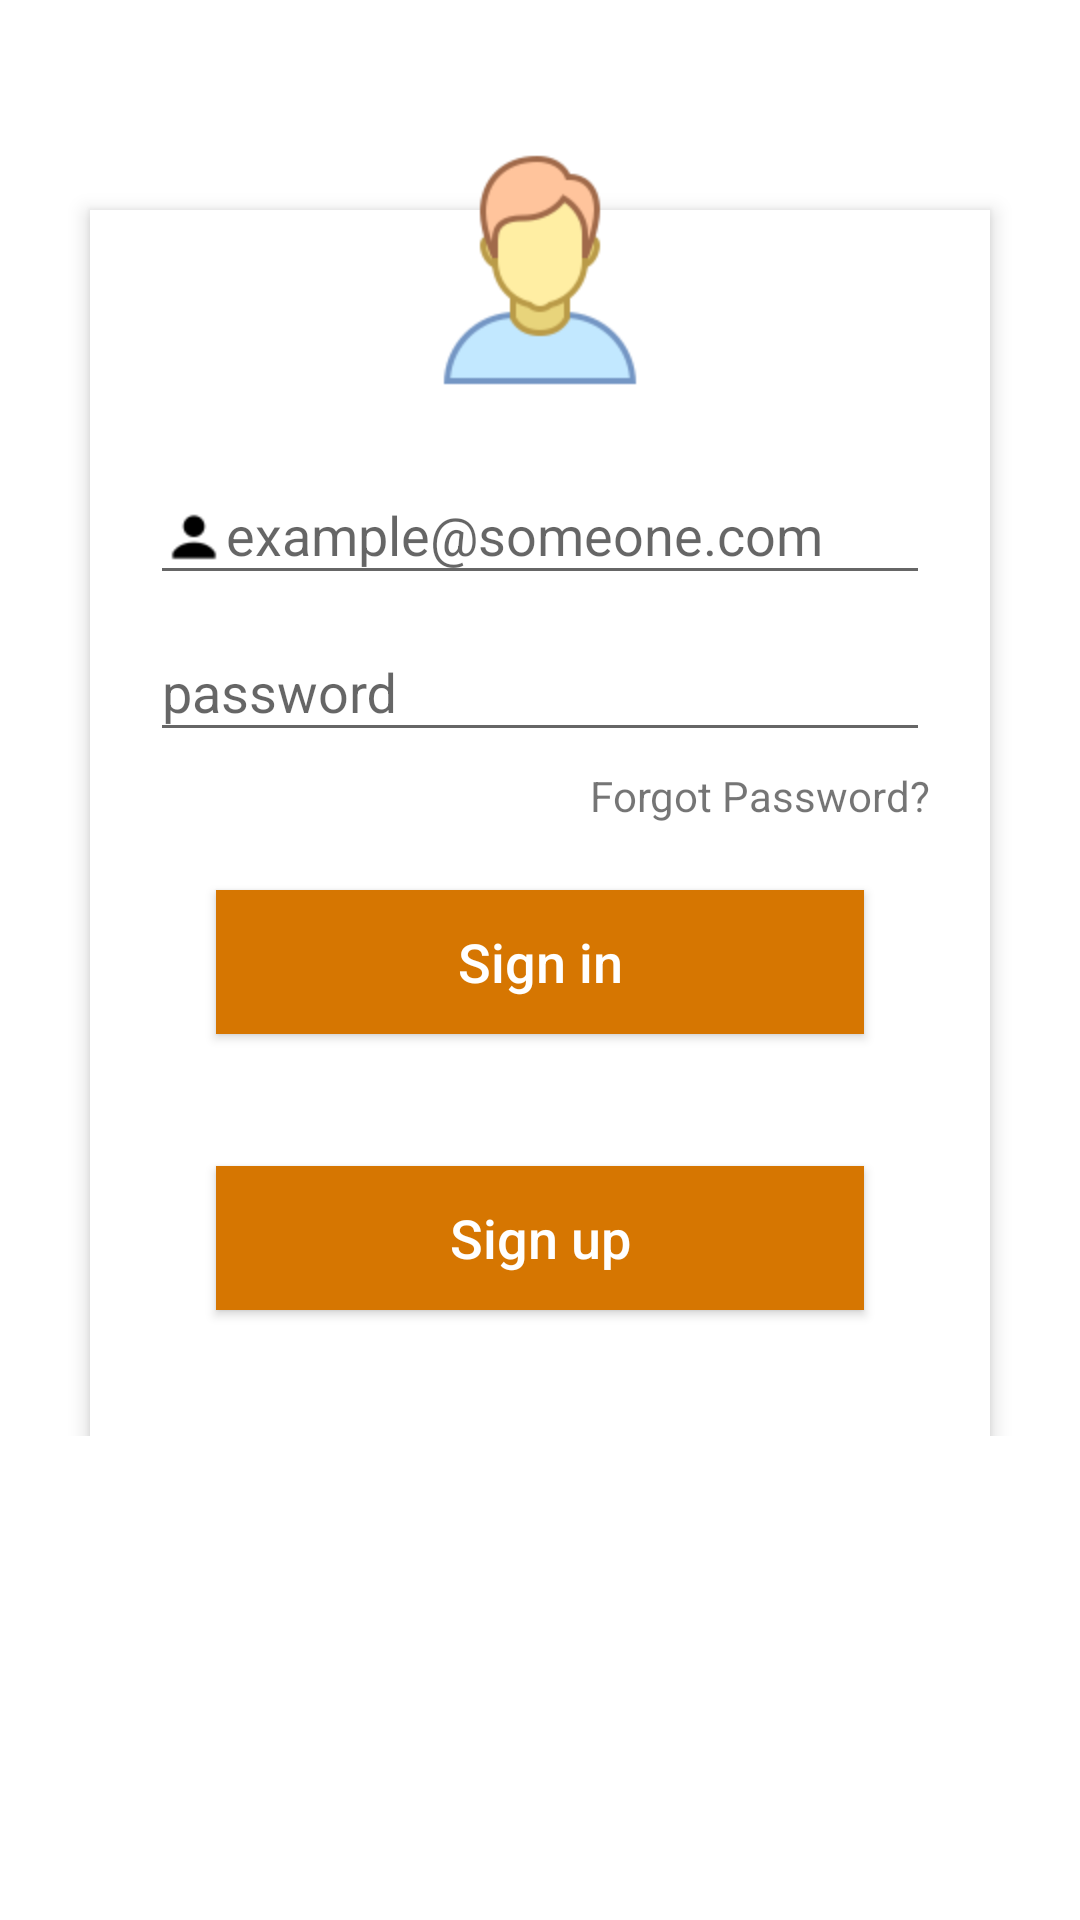

Icon click points for this 1080×1920 phone screenshot, format point (x, y):
profile: point (540, 270)
